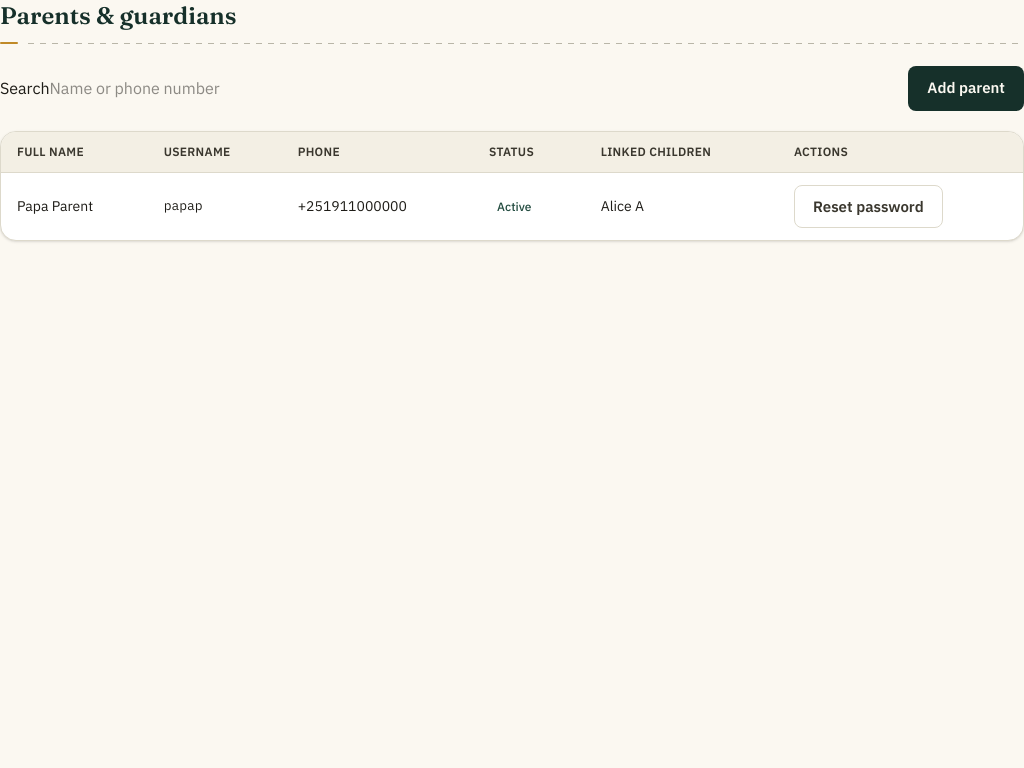
ParentsPage — admin password reset › confirm button is disabled until a reason is entered
Click the button "Reset password" at (868, 206), box [794,184,943,228]
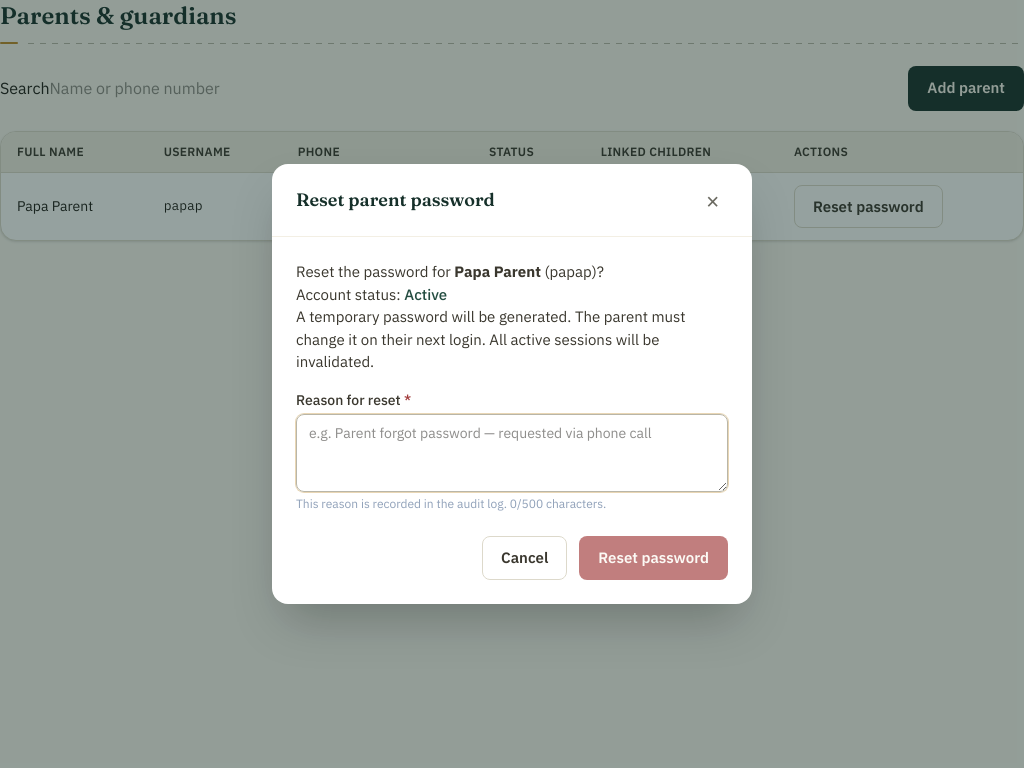
Result: the button "Reset password" is disabled at [579,536,728,580]
Type "Parent requested via phone" into the text box with placeholder "e.g. Parent forgot password — requested via phone call" at (512, 452), box [296,414,728,492]
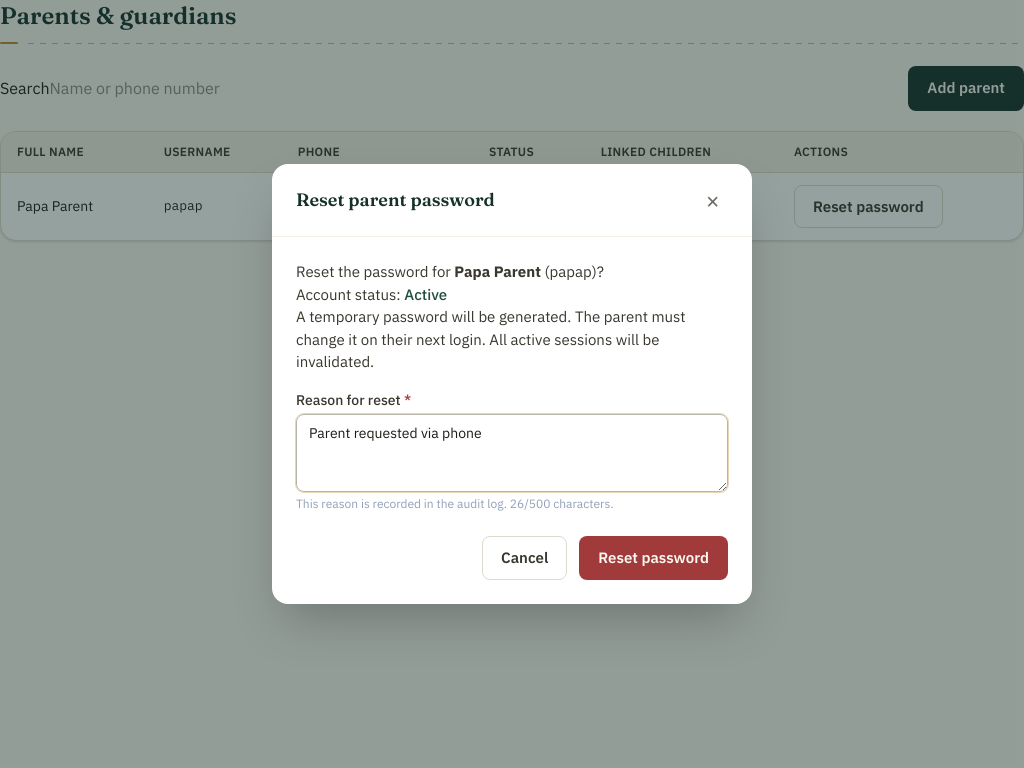
Result: the button "Reset password" is enabled at [579,536,728,580]
